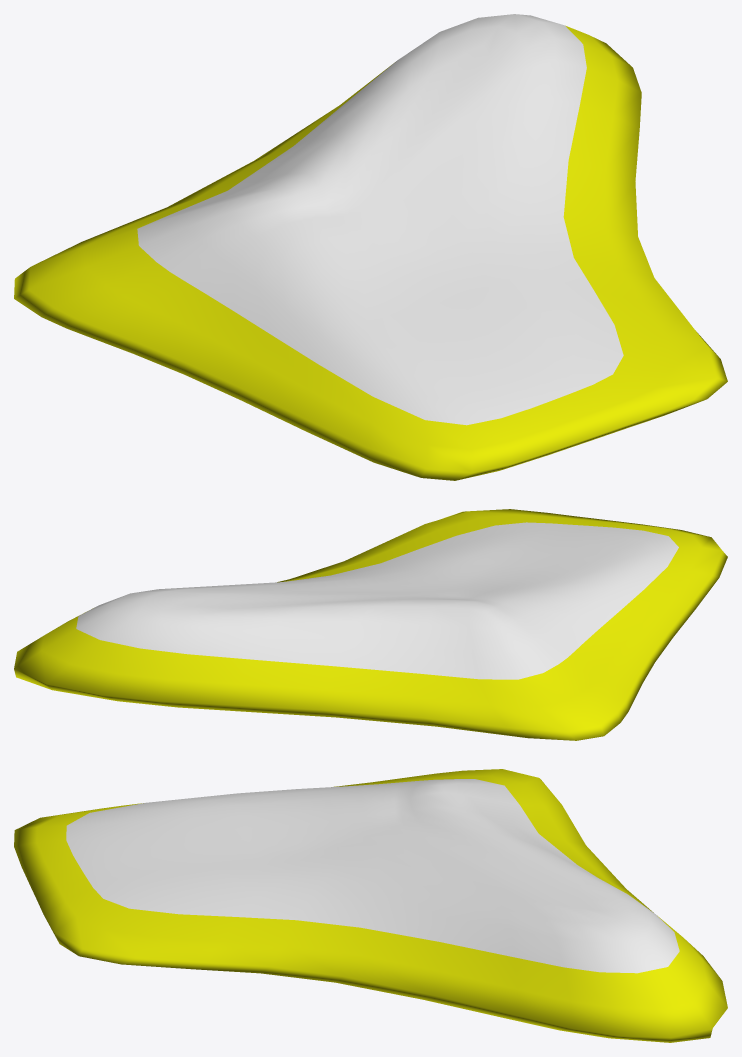
Rendered from WindmillIsland.glb.
The picture shows the model from 3 angles, top to bottom: view 1: azimuth 30°, elevation 25°; view 2: azimuth 150°, elevation 25°; view 3: azimuth 270°, elevation 25°; orthographic projection. The views are drawn at different scales.
Visible parts, largest first — view 1: Cube; view 2: Cube; view 3: Cube.
Boxes of the visible parts, box(x1,y1,x2,y2) form: Cube: box(14, 14, 727, 480); Cube: box(14, 509, 727, 740); Cube: box(14, 769, 727, 1042).
Size of the model in its own units: 18.5 by 2.45 by 20.13.
